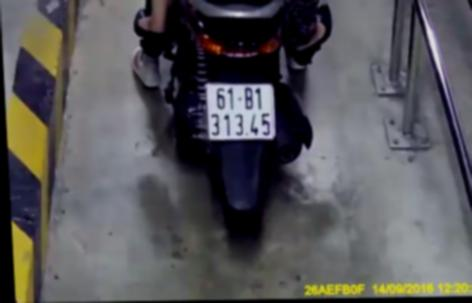License_Plate: (197, 76, 287, 147)
